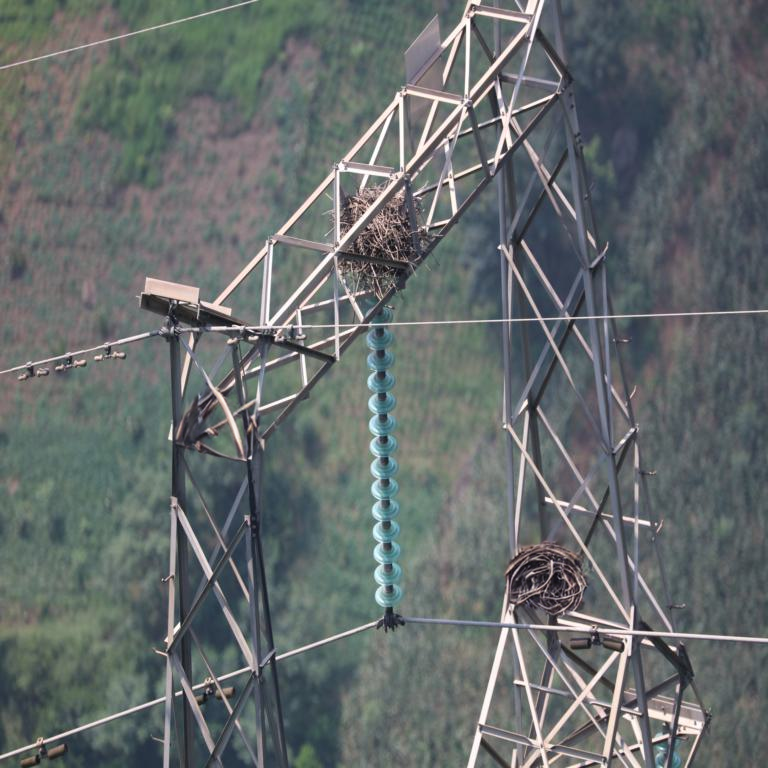nest: (333, 183, 425, 282), (506, 543, 587, 615)
